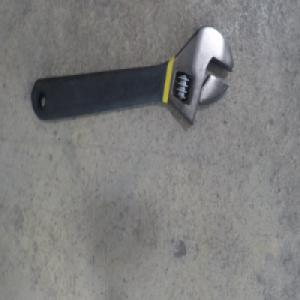AdjustableWrench: (29, 24, 232, 130)
